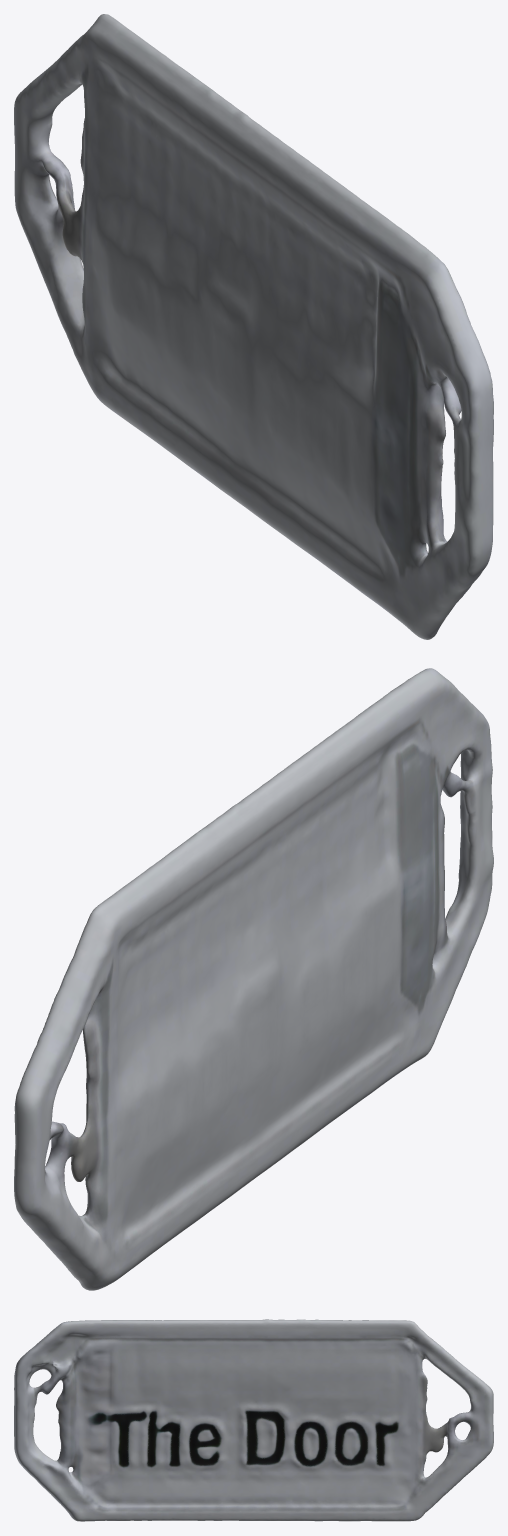
File: 4a1af7c96c72_tag_with_text__the_.fbx
3 views of the same model, one above another, from view 1: azimuth 30°, elevation 25°; view 2: azimuth 150°, elevation 25°; view 3: azimuth 270°, elevation 25° (orthographic). The views are drawn at different scales.
Visible parts, largest first — view 1: high_poly; view 2: high_poly; view 3: high_poly.
Part boxes in pixels (<box>): high_poly: <box>14,14,493,639</box>; high_poly: <box>14,668,493,1290</box>; high_poly: <box>14,1319,493,1521</box>.
Bounding box in the file's own units: 4.1 × 46.21 × 100.
